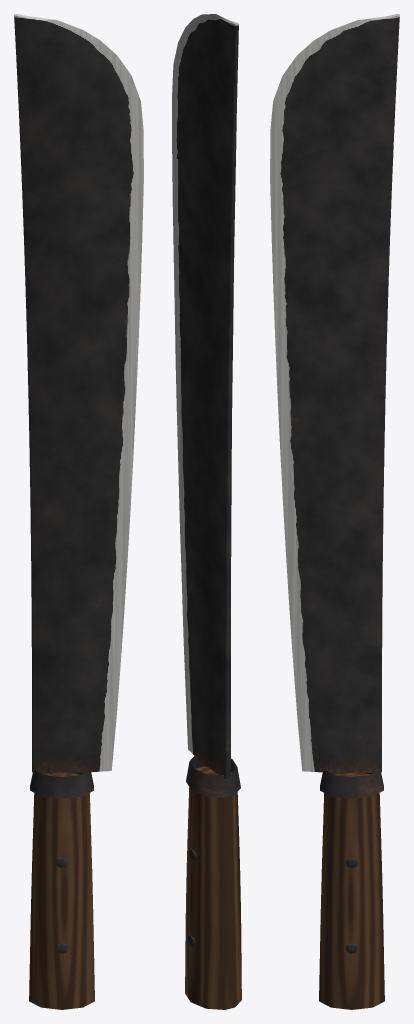
The model's file is SM_Ogun_Ada.fbx.
3 views of the same model, side by side, from view 1: azimuth 90°, elevation 25°; view 2: azimuth 210°, elevation 25°; view 3: azimuth 270°, elevation 25° (orthographic).
Visible parts, largest first — view 1: SM_Ogun_Ada; view 2: SM_Ogun_Ada; view 3: SM_Ogun_Ada.
Boxes of the visible parts, x1=… form: SM_Ogun_Ada: x1=14, y1=14, x2=143, y2=1009; SM_Ogun_Ada: x1=172, y1=14, x2=241, y2=1009; SM_Ogun_Ada: x1=270, y1=14, x2=399, y2=1009.
Bounding box in the file's own units: 2.96 × 57.9 × 6.92.
Materials: 1 (1 with a texture image).
